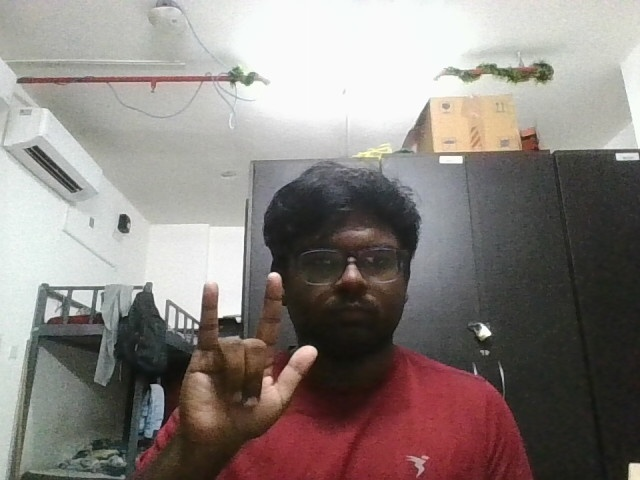I Love You: (169, 265, 329, 460)
